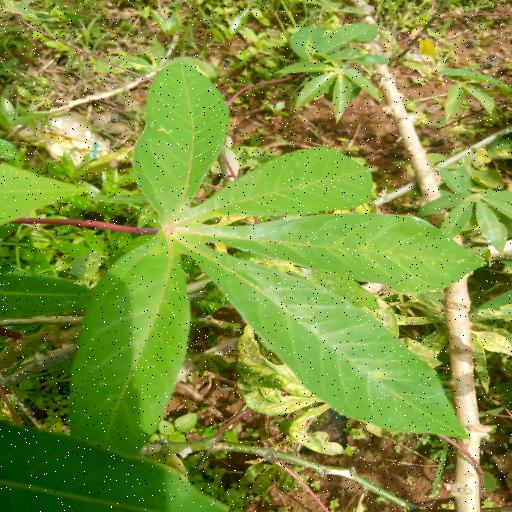Cassava_Healthy: (67, 56, 478, 458)
